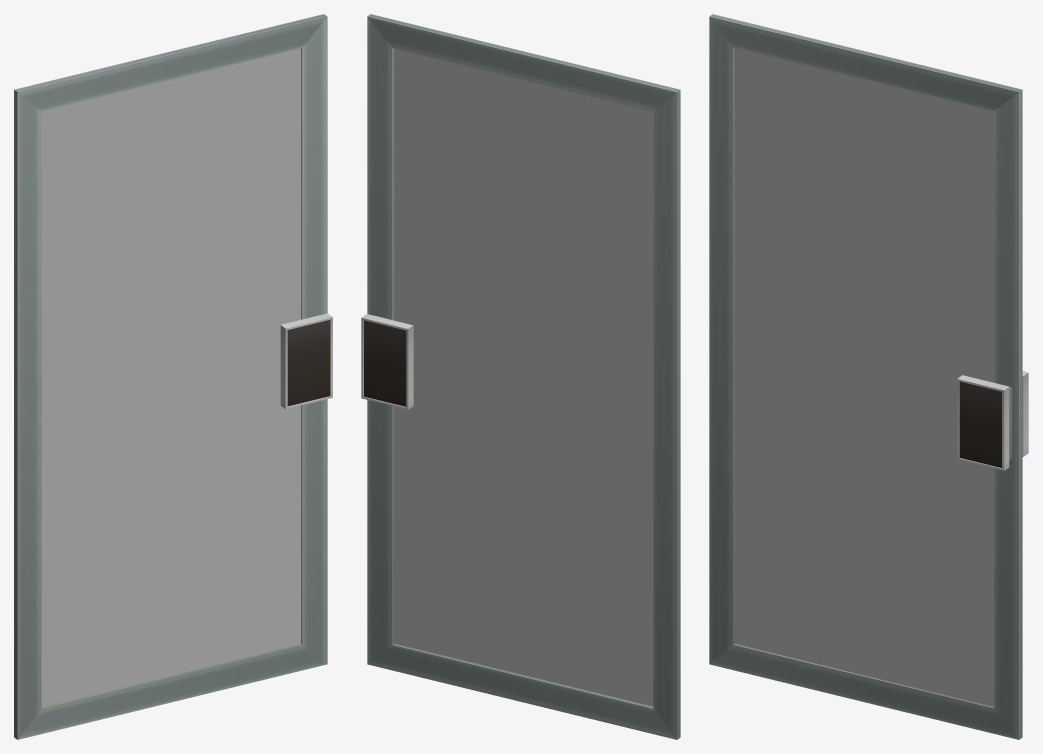
File: shop_f_cafe_door01.fbx
3 views of the same model, side by side, from view 1: azimuth 30°, elevation 25°; view 2: azimuth 150°, elevation 25°; view 3: azimuth 330°, elevation 25° (orthographic).
Visible parts, largest first — view 1: shop_f_cafe_door01; view 2: shop_f_cafe_door01; view 3: shop_f_cafe_door01.
Part boxes in pixels (x1=…): shop_f_cafe_door01: x1=14, y1=14, x2=332, y2=739; shop_f_cafe_door01: x1=361, y1=14, x2=680, y2=739; shop_f_cafe_door01: x1=709, y1=14, x2=1028, y2=739.
Size of the model in its own units: 1.18 by 2.36 by 0.1619.
